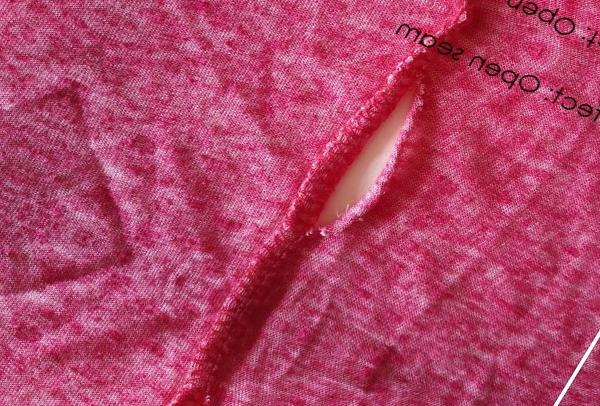hole: (299, 75, 432, 247)
